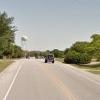Tree: (62, 34, 97, 68)
